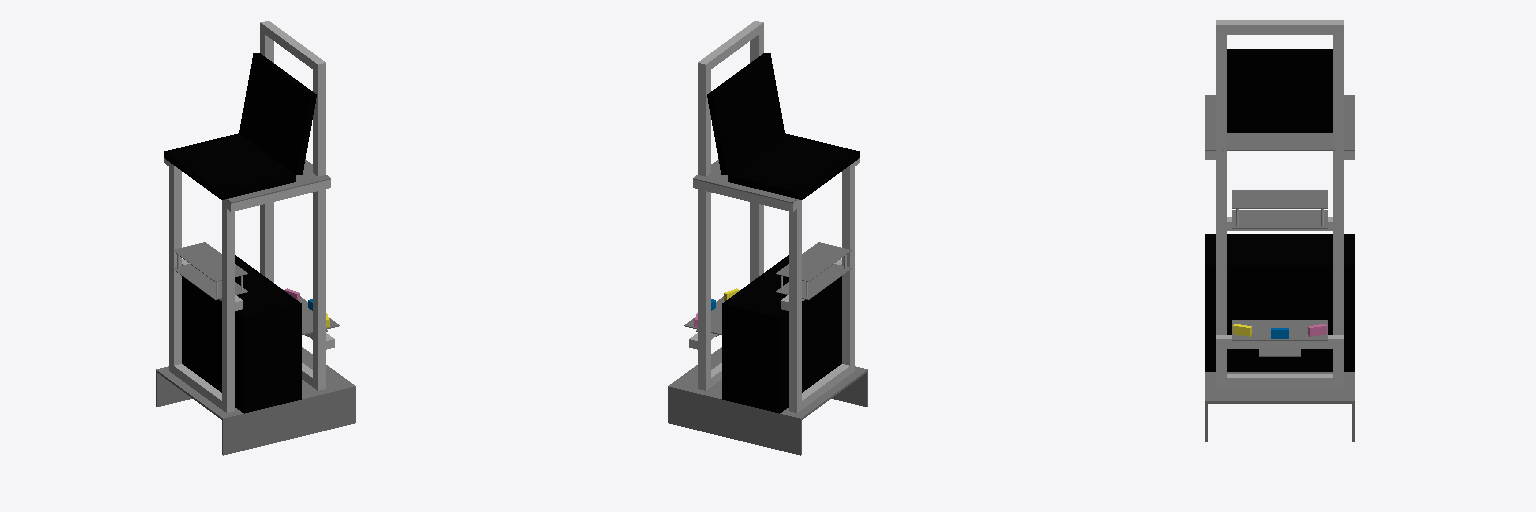
--- What the picture shows (computed from the rendered views, not written in the file) ---
3 views of the same robot in one strip: view 1: azimuth 30°, elevation 25°; view 2: azimuth 150°, elevation 25°; view 3: azimuth 270°, elevation 25° (orthographic).
Model segbot with 48 links and 47 joints (4 continuous, 43 fixed), rooted at base_footprint, posed every joint at zero.
Links seen in each view (by area): view 1: battery_box_link, laptop_screen_link, laptop_link, chassis_right_plate_link, front_right_vertical_beam_link, back_right_vertical_beam_link, back_left_vertical_beam_link, chassis_base_plate_link, front_left_vertical_beam_link, nav_kinect_top_plate_link, front_cap_beam_link, right_laptop_support_beam_link (+4 smaller); view 2: battery_box_link, laptop_screen_link, laptop_link, chassis_left_plate_link, front_left_vertical_beam_link, back_left_vertical_beam_link, back_right_vertical_beam_link, chassis_base_plate_link, front_right_vertical_beam_link, nav_kinect_top_plate_link, front_cap_beam_link, left_laptop_support_beam_link (+4 smaller); view 3: battery_box_link, laptop_screen_link, front_left_vertical_beam_link, front_right_vertical_beam_link, laptop_base_plate_link, chassis_base_plate_link, front_cap_beam_link, nav_kinect_top_plate_link, nav_kinect_base_plate_link, front_base_beam_link, sensor_plate_link, hokuyo_sonar_sensor_beam_link.
Link boxes in pixels (left/top/right/bottom): battery_box_link: left=182, top=255, right=301, bottom=413; laptop_screen_link: left=239, top=53, right=316, bottom=174; laptop_link: left=164, top=133, right=295, bottom=199; chassis_right_plate_link: left=222, top=389, right=355, bottom=455; front_right_vertical_beam_link: left=313, top=70, right=325, bottom=385; back_right_vertical_beam_link: left=222, top=199, right=234, bottom=408; back_left_vertical_beam_link: left=169, top=162, right=181, bottom=369; chassis_base_plate_link: left=156, top=347, right=355, bottom=420; front_left_vertical_beam_link: left=260, top=31, right=273, bottom=282; nav_kinect_top_plate_link: left=172, top=242, right=247, bottom=281; front_cap_beam_link: left=260, top=21, right=325, bottom=72; right_laptop_support_beam_link: left=227, top=179, right=330, bottom=211; battery_box_link: left=722, top=255, right=841, bottom=413; laptop_screen_link: left=707, top=53, right=784, bottom=174; laptop_link: left=728, top=133, right=859, bottom=199; chassis_left_plate_link: left=668, top=389, right=801, bottom=455; front_left_vertical_beam_link: left=698, top=70, right=710, bottom=384; back_left_vertical_beam_link: left=789, top=199, right=801, bottom=408; back_right_vertical_beam_link: left=842, top=162, right=854, bottom=369; chassis_base_plate_link: left=668, top=347, right=867, bottom=420; front_right_vertical_beam_link: left=750, top=31, right=763, bottom=282; nav_kinect_top_plate_link: left=776, top=242, right=851, bottom=281; front_cap_beam_link: left=698, top=21, right=763, bottom=72; left_laptop_support_beam_link: left=693, top=179, right=796, bottom=211; battery_box_link: left=1205, top=234, right=1354, bottom=371; laptop_screen_link: left=1227, top=49, right=1332, bottom=130; front_left_vertical_beam_link: left=1333, top=35, right=1343, bottom=377; front_right_vertical_beam_link: left=1216, top=35, right=1226, bottom=377; laptop_base_plate_link: left=1205, top=95, right=1354, bottom=150; chassis_base_plate_link: left=1205, top=372, right=1354, bottom=403; front_cap_beam_link: left=1216, top=20, right=1343, bottom=34; nav_kinect_top_plate_link: left=1232, top=190, right=1327, bottom=208; nav_kinect_base_plate_link: left=1232, top=210, right=1327, bottom=228; front_base_beam_link: left=1216, top=374, right=1343, bottom=387; sensor_plate_link: left=1232, top=320, right=1327, bottom=340; hokuyo_sonar_sensor_beam_link: left=1216, top=335, right=1343, bottom=348.
Bounding box of the posed robot: 0.4064 × 0.3556 × 1.28 m (x, y, z).
Meshes: 7 distinct files referenced, 0 mesh visuals loaded (none loaded); not drawn: 7 (reference not matched to a file when rendering).

robot.urdf — segbot:
<?xml version="1.0" ?>
<!-- =================================================================================== -->
<!-- |    This document was autogenerated by xacro from robots/segbot_v2.urdf.xacro    | -->
<!-- |    EDITING THIS FILE BY HAND IS NOT RECOMMENDED                                 | -->
<!-- =================================================================================== -->
<robot name="segbot" xmlns:controller="http://playerstage.sourceforge.net/gazebo/xmlschema/#controller" xmlns:interface="http://playerstage.sourceforge.net/gazebo/xmlschema/#interface" xmlns:sensor="http://playerstage.sourceforge.net/gazebo/xmlschema/#sensor" xmlns:xacro="http://ros.org/wiki/xacro">
  <!-- inches -->
  <!-- inches -->
  <!-- inches -->
  <!-- colors -->
  <material name="light_grey">
    <color rgba="0.7 0.7 0.7 1"/>
  </material>
  <material name="dark_grey">
    <color rgba="0.5 0.5 0.5 1"/>
  </material>
  <material name="black">
    <color rgba="0 0 0 1"/>
  </material>
  <material name="almost_black">
    <color rgba="0.02 0.02 0.02 1"/>
  </material>
  <!-- root link, on the ground just below the robot origin -->
  <link name="base_footprint">
    <visual>
      <origin rpy="0 0 0" xyz="0 0 0"/>
      <geometry>
        <box size="0.001 0.001 0.001"/>
      </geometry>
    </visual>
  </link>
  <joint name="base_footprint_joint" type="fixed">
    <origin rpy="0 0 0" xyz="0.0 0 0.2165"/>
    <parent link="base_footprint"/>
    <child link="base_link"/>
  </joint>
  <!-- This is the robot origin, center of the 2 wheels (axis of rotation) -->
  <link name="base_link">
    <inertial>
      <mass value="30"/>
      <origin xyz="0 0 -0.2165"/>
      <inertia ixx="3000.0" ixy="0.0" ixz="0.0" iyy="3000.0" iyz="0.0" izz="30.0"/>
    </inertial>
    <visual>
      <origin rpy="0 0 0" xyz="0 0 0"/>
      <geometry>
        <mesh filename="package://segbot_description/meshes/rmp50-base-link.dae" scale="0.0254 0.0254 0.0254"/>
      </geometry>
    </visual>
    <collision>
      <origin rpy="0 0 0" xyz="0 0 -0.05"/>
      <geometry>
        <cylinder length="0.3330" radius="0.305"/>
      </geometry>
    </collision>
  </link>
  <joint name="laser_obstacle_joint" type="fixed">
    <origin rpy="0 0 0" xyz="0.0 0 0.3165"/>
    <parent link="base_link"/>
    <child link="laser_obstacle"/>
  </joint>
  <link name="laser_obstacle">
    <inertial>
      <mass value="0.1"/>
      <origin rpy="0 0 0" xyz="0 0 0"/>
      <inertia ixx="0.01" ixy="0.0" ixz="0.0" iyy="0.01" iyz="0.0" izz="0.01"/>
    </inertial>
    <visual>
      <origin rpy="0 0 0" xyz="0 0 0"/>
      <geometry>
        <box size="0.001 0.001 0.001"/>
      </geometry>
    </visual>
    <collision>
      <origin rpy="0 0 0" xyz="0 0 0"/>
      <geometry>
        <box size="0.25 0.6 0.4"/>
      </geometry>
    </collision>
  </link>
  <gazebo reference="base_link">
    <mu1 value="1.0"/>
    <mu2 value="1.0"/>
    <kp value="1000000.0"/>
    <kd value="1.0"/>
  </gazebo>
  <!-- castor joint -->
  <joint name="base_caster_support_joint" type="continuous">
    <origin rpy="0 0 0" xyz="-0.3292 0 -0.0485"/>
    <parent link="base_link"/>
    <child link="base_caster_support_link"/>
    <axis xyz="0 0 1"/>
    <anchor xyz="0.01 0 0"/>
    <limit effort="100" k_velocity="0" velocity="100"/>
    <joint_properties damping="0.0" friction="0.0"/>
  </joint>
  <transmission name="base_caster_support_trans" type="pr2_mechanism_model/SimpleTransmission">
    <actuator name="base_caster_support_motor"/>
    <joint name="base_caster_support_joint"/>
    <mechanicalReduction>1.0</mechanicalReduction>
  </transmission>
  <link name="base_caster_support_link">
    <inertial>
      <mass value="1"/>
      <origin xyz="0 0 0"/>
      <inertia ixx="0.00375" ixy="0.0" ixz="0.0" iyy="0.00375" iyz="0.0" izz="0.00375"/>
    </inertial>
    <visual>
      <origin rpy="0 0 0" xyz="0 0 0"/>
      <geometry>
        <mesh filename="package://segbot_description/meshes/rmp50-castor-link.dae" scale="0.0254 0.0254 0.0254"/>
      </geometry>
    </visual>
  </link>
  <gazebo reference="base_caster_support_link">
    <mu1 value="100.0"/>
    <mu2 value="100.0"/>
    <kp value="1000000.0"/>
    <kd value="1.0"/>
  </gazebo>
  <!-- castor wheel -->
  <joint name="caster_wheel_joint" type="continuous">
    <origin rpy="0 0 0" xyz="-0.0397 0 -0.0918"/>
    <parent link="base_caster_support_link"/>
    <child link="caster_wheel_link"/>
    <axis xyz="0 1 0"/>
    <anchor xyz="0 0 0"/>
    <limit effort="100" k_velocity="0" velocity="100"/>
    <joint_properties damping="0.0" friction="0.0"/>
  </joint>
  <transmission name="caster_wheel_trans" type="pr2_mechanism_model/SimpleTransmission">
    <actuator name="caster_wheel_motor"/>
    <joint name="caster_wheel_joint"/>
    <mechanicalReduction>1.0</mechanicalReduction>
  </transmission>
  <link name="caster_wheel_link">
    <inertial>
      <mass value="2"/>
      <origin rpy="0 0 0" xyz="0 0 0"/>
      <inertia ixx="0.003" ixy="0.0" ixz="0.0" iyy="0.00581" iyz="0.0" izz="0.003"/>
    </inertial>
    <visual>
      <origin rpy="0 0 0" xyz="0 0 0"/>
      <geometry>
        <mesh filename="package://segbot_description/meshes/rmp50-castor-wheel.dae" scale="0.0254 0.0254 0.0254"/>
      </geometry>
    </visual>
  </link>
  <gazebo reference="caster_wheel_link">
    <mu1 value="1.0"/>
    <mu2 value="1.0"/>
    <kp value="1000000.0"/>
    <kd value="1.0"/>
  </gazebo>
  <joint name="base_link_left_wheel_joint" type="continuous">
    <origin rpy="0 0 0" xyz="0 0.2689 0.0239"/>
    <axis xyz="0 1 0"/>
    <anchor xyz="0 0 0"/>
    <limit effort="100" velocity="100"/>
    <joint_properties damping="0.0" friction="0.0"/>
    <parent link="base_link"/>
    <child link="base_link_left_wheel_link"/>
  </joint>
  <link name="base_link_left_wheel_link">
    <inertial>
      <mass value="5"/>
      <origin xyz=" 0 0 0 "/>
      <inertia ixx="0.076" ixy="0.0" ixz="0.0" iyy="0.144" iyz="0.0" izz="0.076"/>
    </inertial>
    <visual>
      <origin rpy="0 0 0" xyz="0 0 0"/>
      <geometry>
        <mesh filename="package://segbot_description/meshes/rmp50-left-wheel.dae" scale="0.0254 0.0254 0.0254"/>
      </geometry>
    </visual>
  </link>
  <gazebo reference="base_link_left_wheel_link">
    <mu1 value="1.0"/>
    <mu2 value="1.0"/>
    <kp value="1000000.0"/>
    <kd value="1.0"/>
  </gazebo>
  <transmission name="base_link_left_wheel_trans" type="pr2_mechanism_model/SimpleTransmission">
    <actuator name="base_link_left_wheel_motor"/>
    <joint name="base_link_left_wheel_joint"/>
    <mechanicalReduction>1.0</mechanicalReduction>
  </transmission>
  <joint name="base_link_right_wheel_joint" type="continuous">
    <origin rpy="0 0 0" xyz="0 -0.2689 0.0239"/>
    <axis xyz="0 1 0"/>
    <anchor xyz="0 0 0"/>
    <limit effort="100" velocity="100"/>
    <joint_properties damping="0.0" friction="0.0"/>
    <parent link="base_link"/>
    <child link="base_link_right_wheel_link"/>
  </joint>
  <link name="base_link_right_wheel_link">
    <inertial>
      <mass value="5"/>
      <origin xyz=" 0 0 0 "/>
      <inertia ixx="0.076" ixy="0.0" ixz="0.0" iyy="0.144" iyz="0.0" izz="0.076"/>
    </inertial>
    <visual>
      <origin rpy="0 0 0" xyz="0 0 0"/>
      <geometry>
        <mesh filename="package://segbot_description/meshes/rmp50-right-wheel.dae" scale="0.0254 0.0254 0.0254"/>
      </geometry>
    </visual>
  </link>
  <gazebo reference="base_link_right_wheel_link">
    <mu1 value="1.0"/>
    <mu2 value="1.0"/>
    <kp value="1000000.0"/>
    <kd value="1.0"/>
  </gazebo>
  <transmission name="base_link_right_wheel_trans" type="pr2_mechanism_model/SimpleTransmission">
    <actuator name="base_link_right_wheel_motor"/>
    <joint name="base_link_right_wheel_joint"/>
    <mechanicalReduction>1.0</mechanicalReduction>
  </transmission>
  <joint name="chassis_base_plate_joint" type="fixed">
    <origin xyz="0.0 0 0.10795"/>
    <parent link="base_link"/>
    <child link="chassis_base_plate_link"/>
  </joint>
  <link name="chassis_base_plate_link">
    <inertial>
      <mass value="0.1"/>
      <origin rpy="0 0 0" xyz="0 0 0"/>
      <inertia ixx="0.01" ixy="0.0" ixz="0.0" iyy="0.01" iyz="0.0" izz="0.01"/>
    </inertial>
    <visual>
      <origin rpy="0 0 0" xyz="0 0 0.003175"/>
      <geometry>
        <box size="0.4064 0.3556 0.00635"/>
      </geometry>
      <material name="dark_grey"/>
    </visual>
  </link>
  <gazebo reference="chassis_base_plate_link">
    <material>Gazebo/Grey</material>
    <mu1 value="100.0"/>
    <mu2 value="100.0"/>
    <kp value="1000000.0"/>
    <kd value="1.0"/>
  </gazebo>
  <joint name="chassis_left_plate_joint" type="fixed">
    <origin rpy="-1.5707963268 0 0" xyz="0 0.17145 -0.0508"/>
    <parent link="chassis_base_plate_link"/>
    <child link="chassis_left_plate_link"/>
  </joint>
  <link name="chassis_left_plate_link">
    <inertial>
      <mass value="0.1"/>
      <origin rpy="0 0 0" xyz="0 0 0"/>
      <inertia ixx="0.01" ixy="0.0" ixz="0.0" iyy="0.01" iyz="0.0" izz="0.01"/>
    </inertial>
    <visual>
      <origin rpy="0 0 0" xyz="0 0 0.003175"/>
      <geometry>
        <box size="0.4064 0.1016 0.00635"/>
      </geometry>
      <material name="dark_grey"/>
    </visual>
  </link>
  <gazebo reference="chassis_left_plate_link">
    <material>Gazebo/Grey</material>
    <mu1 value="100.0"/>
    <mu2 value="100.0"/>
    <kp value="1000000.0"/>
    <kd value="1.0"/>
  </gazebo>
  <joint name="chassis_right_plate_joint" type="fixed">
    <origin rpy="+1.5707963268 0 0" xyz="0 -0.17145 -0.0508"/>
    <parent link="chassis_base_plate_link"/>
    <child link="chassis_right_plate_link"/>
  </joint>
  <link name="chassis_right_plate_link">
    <inertial>
      <mass value="0.1"/>
      <origin rpy="0 0 0" xyz="0 0 0"/>
      <inertia ixx="0.01" ixy="0.0" ixz="0.0" iyy="0.01" iyz="0.0" izz="0.01"/>
    </inertial>
    <visual>
      <origin rpy="0 0 0" xyz="0 0 0.003175"/>
      <geometry>
        <box size="0.4064 0.1016 0.00635"/>
      </geometry>
      <material name="dark_grey"/>
    </visual>
  </link>
  <gazebo reference="chassis_right_plate_link">
    <material>Gazebo/Grey</material>
    <mu1 value="100.0"/>
    <mu2 value="100.0"/>
    <kp value="1000000.0"/>
    <kd value="1.0"/>
  </gazebo>
  <!-- battery box (approximately 7" by 14" by 11) -->
  <joint name="battery_box_joint" type="fixed">
    <origin rpy="0 0 0" xyz="-0.0508 0 0.00635"/>
    <parent link="chassis_base_plate_link"/>
    <child link="battery_box_link"/>
  </joint>
  <link name="battery_box_link">
    <inertial>
      <mass value="0.1"/>
      <origin rpy="0 0 0" xyz="0 0 0"/>
      <inertia ixx="0.01" ixy="0.0" ixz="0.0" iyy="0.01" iyz="0.0" izz="0.01"/>
    </inertial>
    <visual>
      <origin rpy="0 0 0" xyz="0 0 0.1397"/>
      <geometry>
        <box size="0.1778 0.3556 0.2794"/>
      </geometry>
      <material name="almost_black"/>
    </visual>
  </link>
  <gazebo reference="battery_box_link">
    <material>Gazebo/Black</material>
    <mu1 value="100.0"/>
    <mu2 value="100.0"/>
    <kp value="1000000.0"/>
    <kd value="1.0"/>
  </gazebo>
  <joint name="front_base_beam_joint" type="fixed">
    <origin rpy="1.5707963268 0 0" xyz="0.1143 0.1524 0.01905"/>
    <parent link="chassis_base_plate_link"/>
    <child link="front_base_beam_link"/>
  </joint>
  <link name="front_base_beam_link">
    <inertial>
      <mass value="0.1"/>
      <inertia ixx="0.01" ixy="0.0" ixz="0.0" iyy="0.01" iyz="0.0" izz="0.01"/>
    </inertial>
    <visual>
      <origin rpy="0 0 0" xyz="0 0 0.1524"/>
      <geometry>
        <box size="0.0254 0.0254 0.3048"/>
      </geometry>
      <material name="light_grey"/>
    </visual>
  </link>
  <gazebo reference="front_base_beam_link">
    <material>Gazebo/Grey</material>
    <mu1 value="100.0"/>
    <mu2 value="100.0"/>
    <kp value="1000000.0"/>
    <kd value="1.0"/>
  </gazebo>
  <joint name="back_base_beam_joint" type="fixed">
    <origin rpy="1.5707963268 0 0" xyz="-0.1651 0.1524 0.01905"/>
    <parent link="chassis_base_plate_link"/>
    <child link="back_base_beam_link"/>
  </joint>
  <link name="back_base_beam_link">
    <inertial>
      <mass value="0.1"/>
      <inertia ixx="0.01" ixy="0.0" ixz="0.0" iyy="0.01" iyz="0.0" izz="0.01"/>
    </inertial>
    <visual>
      <origin rpy="0 0 0" xyz="0 0 0.1524"/>
      <geometry>
        <box size="0.0254 0.0254 0.3048"/>
      </geometry>
      <material name="light_grey"/>
    </visual>
  </link>
  <gazebo reference="back_base_beam_link">
    <material>Gazebo/Grey</material>
    <mu1 value="100.0"/>
    <mu2 value="100.0"/>
    <kp value="1000000.0"/>
    <kd value="1.0"/>
  </gazebo>
  <joint name="back_left_vertical_beam_joint" type="fixed">
    <origin rpy="-1.5707963268 0 0" xyz="0 0 0.0127"/>
    <parent link="back_base_beam_link"/>
    <child link="back_left_vertical_beam_link"/>
  </joint>
  <link name="back_left_vertical_beam_link">
    <inertial>
      <mass value="0.1"/>
      <inertia ixx="0.01" ixy="0.0" ixz="0.0" iyy="0.01" iyz="0.0" izz="0.01"/>
    </inertial>
    <visual>
      <origin rpy="0 0 0" xyz="0 0 0.3048"/>
      <geometry>
        <box size="0.0254 0.0254 0.6096"/>
      </geometry>
      <material name="light_grey"/>
    </visual>
  </link>
  <gazebo reference="back_left_vertical_beam_link">
    <material>Gazebo/Grey</material>
    <mu1 value="100.0"/>
    <mu2 value="100.0"/>
    <kp value="1000000.0"/>
    <kd value="1.0"/>
  </gazebo>
  <joint name="front_left_vertical_beam_joint" type="fixed">
    <origin rpy="-1.5707963268 0 0" xyz="0 0 0.0127"/>
    <parent link="front_base_beam_link"/>
    <child link="front_left_vertical_beam_link"/>
  </joint>
  <link name="front_left_vertical_beam_link">
    <inertial>
      <mass value="0.1"/>
      <inertia ixx="0.01" ixy="0.0" ixz="0.0" iyy="0.01" iyz="0.0" izz="0.01"/>
    </inertial>
    <visual>
      <origin rpy="0 0 0" xyz="0 0 0.4572"/>
      <geometry>
        <box size="0.0254 0.0254 0.9144"/>
      </geometry>
      <material name="light_grey"/>
    </visual>
  </link>
  <gazebo reference="front_left_vertical_beam_link">
    <material>Gazebo/Grey</material>
    <mu1 value="100.0"/>
    <mu2 value="100.0"/>
    <kp value="1000000.0"/>
    <kd value="1.0"/>
  </gazebo>
  <joint name="back_right_vertical_beam_joint" type="fixed">
    <origin rpy="-1.5707963268 0 0" xyz="0 0 0.2921"/>
    <parent link="back_base_beam_link"/>
    <child link="back_right_vertical_beam_link"/>
  </joint>
  <link name="back_right_vertical_beam_link">
    <inertial>
      <mass value="0.1"/>
      <inertia ixx="0.01" ixy="0.0" ixz="0.0" iyy="0.01" iyz="0.0" izz="0.01"/>
    </inertial>
    <visual>
      <origin rpy="0 0 0" xyz="0 0 0.3048"/>
      <geometry>
        <box size="0.0254 0.0254 0.6096"/>
      </geometry>
      <material name="light_grey"/>
    </visual>
  </link>
  <gazebo reference="back_right_vertical_beam_link">
    <material>Gazebo/Grey</material>
    <mu1 value="100.0"/>
    <mu2 value="100.0"/>
    <kp value="1000000.0"/>
    <kd value="1.0"/>
  </gazebo>
  <joint name="front_right_vertical_beam_joint" type="fixed">
    <origin rpy="-1.5707963268 0 0" xyz="0 0 0.2921"/>
    <parent link="front_base_beam_link"/>
    <child link="front_right_vertical_beam_link"/>
  </joint>
  <link name="front_right_vertical_beam_link">
    <inertial>
      <mass value="0.1"/>
      <inertia ixx="0.01" ixy="0.0" ixz="0.0" iyy="0.01" iyz="0.0" izz="0.01"/>
    </inertial>
    <visual>
      <origin rpy="0 0 0" xyz="0 0 0.4572"/>
      <geometry>
        <box size="0.0254 0.0254 0.9144"/>
      </geometry>
      <material name="light_grey"/>
    </visual>
  </link>
  <gazebo reference="front_right_vertical_beam_link">
    <material>Gazebo/Grey</material>
    <mu1 value="100.0"/>
    <mu2 value="100.0"/>
    <kp value="1000000.0"/>
    <kd value="1.0"/>
  </gazebo>
  <joint name="left_laptop_support_beam_joint" type="fixed">
    <origin rpy="3.14159265359 -1.5707963268 0" xyz="-0.0127 0.0254 0.5969"/>
    <parent link="back_left_vertical_beam_link"/>
    <child link="left_laptop_support_beam_link"/>
  </joint>
  <link name="left_laptop_support_beam_link">
    <inertial>
      <mass value="0.1"/>
      <inertia ixx="0.01" ixy="0.0" ixz="0.0" iyy="0.01" iyz="0.0" izz="0.01"/>
    </inertial>
    <visual>
      <origin rpy="0 0 0" xyz="0 0 0.1524"/>
      <geometry>
        <box size="0.0254 0.0254 0.3048"/>
      </geometry>
      <material name="light_grey"/>
    </visual>
  </link>
  <gazebo reference="left_laptop_support_beam_link">
    <material>Gazebo/Grey</material>
    <mu1 value="100.0"/>
    <mu2 value="100.0"/>
    <kp value="1000000.0"/>
    <kd value="1.0"/>
  </gazebo>
  <joint name="right_laptop_support_beam_joint" type="fixed">
    <origin rpy="3.14159265359 -1.5707963268 0" xyz="-0.0127 -0.0254 0.5969"/>
    <parent link="back_right_vertical_beam_link"/>
    <child link="right_laptop_support_beam_link"/>
  </joint>
  <link name="right_laptop_support_beam_link">
    <inertial>
      <mass value="0.1"/>
      <inertia ixx="0.01" ixy="0.0" ixz="0.0" iyy="0.01" iyz="0.0" izz="0.01"/>
    </inertial>
    <visual>
      <origin rpy="0 0 0" xyz="0 0 0.1524"/>
      <geometry>
        <box size="0.0254 0.0254 0.3048"/>
      </geometry>
      <material name="light_grey"/>
    </visual>
  </link>
  <gazebo reference="right_laptop_support_beam_link">
    <material>Gazebo/Grey</material>
    <mu1 value="100.0"/>
    <mu2 value="100.0"/>
    <kp value="1000000.0"/>
    <kd value="1.0"/>
  </gazebo>
  <joint name="laptop_base_plate_joint" type="fixed">
    <origin rpy="3.14159265359 -1.5707963268 0" xyz="0.0127 0.1651 0.1524"/>
    <parent link="left_laptop_support_beam_link"/>
    <child link="laptop_base_plate_link"/>
  </joint>
  <link name="laptop_base_plate_link">
    <inertial>
      <mass value="0.1"/>
      <origin rpy="0 0 0" xyz="0 0 0"/>
      <inertia ixx="0.01" ixy="0.0" ixz="0.0" iyy="0.01" iyz="0.0" izz="0.01"/>
    </inertial>
    <visual>
      <origin rpy="0 0 0" xyz="0 0 0.0015875"/>
      <geometry>
        <box size="0.3048 0.3556 0.003175"/>
      </geometry>
      <material name="dark_grey"/>
    </visual>
  </link>
  <gazebo reference="laptop_base_plate_link">
    <material>Gazebo/Grey</material>
    <mu1 value="100.0"/>
    <mu2 value="100.0"/>
    <kp value="1000000.0"/>
    <kd value="1.0"/>
  </gazebo>
  <!-- laptop base -->
  <joint name="laptop_joint" type="fixed">
    <origin rpy="0 0 0" xyz="-0.05334 0 0.003175"/>
    <parent link="laptop_base_plate_link"/>
    <child link="laptop_link"/>
  </joint>
  <link name="laptop_link">
    <inertial>
      <mass value="0.1"/>
      <origin rpy="0 0 0" xyz="0 0 0"/>
      <inertia ixx="0.01" ixy="0.0" ixz="0.0" iyy="0.01" iyz="0.0" izz="0.01"/>
    </inertial>
    <visual>
      <origin rpy="0 0 0" xyz="0 0 0.009525"/>
      <geometry>
        <box size="0.2286 0.3048 0.01905"/>
      </geometry>
      <material name="almost_black"/>
    </visual>
  </link>
  <gazebo reference="laptop_link">
    <material>Gazebo/Grey</material>
    <mu1 value="100.0"/>
    <mu2 value="100.0"/>
    <kp value="1000000.0"/>
    <kd value="1.0"/>
  </gazebo>
  <!-- laptop screen -->
  <joint name="laptop_screen_joint" type="fixed">
    <origin rpy="0 -1.37444678595 0" xyz="0.1143 0 0.01905"/>
    <parent link="laptop_link"/>
    <child link="laptop_screen_link"/>
  </joint>
  <link name="laptop_screen_link">
    <inertial>
      <mass value="0.1"/>
      <origin rpy="0 0 0" xyz="0 0 0"/>
      <inertia ixx="0.01" ixy="0.0" ixz="0.0" iyy="0.01" iyz="0.0" izz="0.01"/>
    </inertial>
    <visual>
      <origin rpy="0 0 -1.5707963268" xyz="0.1143 0 -0.009525"/>
      <geometry>
        <box size="0.3048 0.2286 0.01905"/>
      </geometry>
      <material name="almost_black"/>
    </visual>
  </link>
  <gazebo reference="laptop_screen_link">
    <visual>
      <plugin filename="libgazebo_ros_video.so" name="laptop_video_controller">
        <height>120</height>
        <width>160</width>
        <topicName>image</topicName>
      </plugin>
    </visual>
    <material>Gazebo/Grey</material>
    <mu1 value="100.0"/>
    <mu2 value="100.0"/>
    <kp value="1000000.0"/>
    <kd value="1.0"/>
  </gazebo>
  <joint name="nav_kinect_sensor_beam_joint" type="fixed">
    <origin rpy="-1.5707963268 -1.5707963268 0" xyz="0.0254 -0.0127 0.2921"/>
    <parent link="back_right_vertical_beam_link"/>
    <child link="nav_kinect_sensor_beam_link"/>
  </joint>
  <link name="nav_kinect_sensor_beam_link">
    <inertial>
      <mass value="0.1"/>
      <inertia ixx="0.01" ixy="0.0" ixz="0.0" iyy="0.01" iyz="0.0" izz="0.01"/>
    </inertial>
    <visual>
      <origin rpy="0 0 0" xyz="0 0 0.1524"/>
      <geometry>
        <box size="0.0254 0.0254 0.3048"/>
      </geometry>
      <material name="light_grey"/>
    </visual>
  </link>
  <gazebo reference="nav_kinect_sensor_beam_link">
    <material>Gazebo/Grey</material>
    <mu1 value="100.0"/>
    <mu2 value="100.0"/>
    <kp value="1000000.0"/>
    <kd value="1.0"/>
  </gazebo>
  <joint name="nav_kinect_base_plate_joint" type="fixed">
    <origin rpy="1.5707963268 0 1.5707963268" xyz="0.0127 0 0.1524"/>
    <parent link="nav_kinect_sensor_beam_link"/>
    <child link="nav_kinect_base_plate_link"/>
  </joint>
  <link name="nav_kinect_base_plate_link">
    <inertial>
      <mass value="0.1"/>
      <origin rpy="0 0 0" xyz="0 0 0"/>
      <inertia ixx="0.01" ixy="0.0" ixz="0.0" iyy="0.01" iyz="0.0" izz="0.01"/>
    </inertial>
    <visual>
      <origin rpy="0 0 0" xyz="0 0 0.00079375"/>
      <geometry>
        <box size="0.1016 0.2286 0.0015875"/>
      </geometry>
      <material name="dark_grey"/>
    </visual>
  </link>
  <gazebo reference="nav_kinect_base_plate_link">
    <material>Gazebo/Grey</material>
    <mu1 value="100.0"/>
    <mu2 value="100.0"/>
    <kp value="1000000.0"/>
    <kd value="1.0"/>
  </gazebo>
  <joint name="nav_kinect_standoff_1_joint" type="fixed">
    <origin rpy="0 0 0" xyz="0.0381 -0.1016 0.0015875"/>
    <parent link="nav_kinect_base_plate_link"/>
    <child link="nav_kinect_standoff_1_link"/>
  </joint>
  <link name="nav_kinect_standoff_1_link">
    <inertial>
      <mass value="0.1"/>
      <origin rpy="0 0 0" xyz="0 0 0"/>
      <inertia ixx="0.01" ixy="0.0" ixz="0.0" iyy="0.01" iyz="0.0" izz="0.01"/>
    </inertial>
    <visual>
      <origin rpy="0 0 0" xyz="0 0 0.0254"/>
      <geometry>
        <cylinder length="0.0508" radius="0.003175"/>
      </geometry>
      <material name="light_grey"/>
    </visual>
  </link>
  <gazebo reference="nav_kinect_standoff_1_link">
    <material>Gazebo/Grey</material>
    <mu1 value="100.0"/>
    <mu2 value="100.0"/>
    <kp value="1000000.0"/>
    <kd value="1.0"/>
  </gazebo>
  <joint name="nav_kinect_standoff_2_joint" type="fixed">
    <origin rpy="0 0 0" xyz="0.0381 0.1016 0.0015875"/>
    <parent link="nav_kinect_base_plate_link"/>
    <child link="nav_kinect_standoff_2_link"/>
  </joint>
  <link name="nav_kinect_standoff_2_link">
    <inertial>
      <mass value="0.1"/>
      <origin rpy="0 0 0" xyz="0 0 0"/>
      <inertia ixx="0.01" ixy="0.0" ixz="0.0" iyy="0.01" iyz="0.0" izz="0.01"/>
    </inertial>
    <visual>
      <origin rpy="0 0 0" xyz="0 0 0.0254"/>
      <geometry>
        <cylinder length="0.0508" radius="0.003175"/>
      </geometry>
      <material name="light_grey"/>
    </visual>
  </link>
  <gazebo reference="nav_kinect_standoff_2_link">
    <material>Gazebo/Grey</material>
    <mu1 value="100.0"/>
    <mu2 value="100.0"/>
    <kp value="1000000.0"/>
    <kd value="1.0"/>
  </gazebo>
  <joint name="nav_kinect_standoff_3_joint" type="fixed">
    <origin rpy="0 0 0" xyz="-0.0381 0.1016 0.0015875"/>
    <parent link="nav_kinect_base_plate_link"/>
    <child link="nav_kinect_standoff_3_link"/>
  </joint>
  <link name="nav_kinect_standoff_3_link">
    <inertial>
      <mass value="0.1"/>
      <origin rpy="0 0 0" xyz="0 0 0"/>
      <inertia ixx="0.01" ixy="0.0" ixz="0.0" iyy="0.01" iyz="0.0" izz="0.01"/>
    </inertial>
    <visual>
      <origin rpy="0 0 0" xyz="0 0 0.0254"/>
      <geometry>
        <cylinder length="0.0508" radius="0.003175"/>
      </geometry>
      <material name="light_grey"/>
    </visual>
  </link>
  <gazebo reference="nav_kinect_standoff_3_link">
    <material>Gazebo/Grey</material>
    <mu1 value="100.0"/>
    <mu2 value="100.0"/>
    <kp value="1000000.0"/>
    <kd value="1.0"/>
  </gazebo>
  <joint name="nav_kinect_standoff_4_joint" type="fixed">
    <origin rpy="0 0 0" xyz="-0.0381 -0.1016 0.0015875"/>
    <parent link="nav_kinect_base_plate_link"/>
    <child link="nav_kinect_standoff_4_link"/>
  </joint>
  <link name="nav_kinect_standoff_4_link">
    <inertial>
      <mass value="0.1"/>
      <origin rpy="0 0 0" xyz="0 0 0"/>
      <inertia ixx="0.01" ixy="0.0" ixz="0.0" iyy="0.01" iyz="0.0" izz="0.01"/>
    </inertial>
    <visual>
      <origin rpy="0 0 0" xyz="0 0 0.0254"/>
      <geometry>
        <cylinder length="0.0508" radius="0.003175"/>
      </geometry>
      <material name="light_grey"/>
    </visual>
  </link>
  <gazebo reference="nav_kinect_standoff_4_link">
    <material>Gazebo/Grey</material>
    <mu1 value="100.0"/>
    <mu2 value="100.0"/>
    <kp value="1000000.0"/>
    <kd value="1.0"/>
  </gazebo>
  <joint name="nav_kinect_top_plate_joint" type="fixed">
    <origin rpy="0 0 0" xyz="-0.0381 0.1016 0.0508"/>
    <parent link="nav_kinect_standoff_1_link"/>
    <child link="nav_kinect_top_plate_link"/>
  </joint>
  <link name="nav_kinect_top_plate_link">
    <inertial>
      <mass value="0.1"/>
      <origin rpy="0 0 0" xyz="0 0 0"/>
      <inertia ixx="0.01" ixy="0.0" ixz="0.0" iyy="0.01" iyz="0.0" izz="0.01"/>
    </inertial>
    <visual>
      <origin rpy="0 0 0" xyz="0 0 0.00079375"/>
      <geometry>
        <box size="0.1016 0.2286 0.0015875"/>
      </geometry>
      <material name="dark_grey"/>
    </visual>
  </link>
  <gazebo reference="nav_kinect_top_plate_link">
    <material>Gazebo/Grey</material>
    <mu1 value="100.0"/>
    <mu2 value="100.0"/>
    <kp value="1000000.0"/>
    <kd value="1.0"/>
  </gazebo>
  <joint name="nav_kinect_joint" type="fixed">
    <origin rpy="0 0 0" xyz="0.031242 -0.0137160 0.022352"/>
    <parent link="nav_kinect_top_plate_link"/>
    <child link="nav_kinect_link"/>
  </joint>
  <link name="nav_kinect_link">
    <inertial>
      <mass value="0.1"/>
      <origin rpy="0 0 0" xyz="0 0 0"/>
      <inertia ixx="0.01" ixy="0.0" ixz="0.0" iyy="0.01" iyz="0.0" izz="0.01"/>
    </inertial>
    <visual>
      <origin rpy="0 0 0" xyz="0.0 0.012 0"/>
      <geometry>
        <mesh filename="package://pr2_description/meshes/sensors/kinect_v0/kinect.dae" scale="0.001 0.001 0.001"/>
      </geometry>
    </visual>
    <!-- <collision> -->
    <!--   <origin xyz="0.0 0.012 0" rpy="0 0 0"/> -->
    <!--   <geometry> -->
    <!--     <mesh filename="package://pr2_description/meshes/sensors/kinect_v0/kinect.dae" scale="0.001 0.001 0.001" /> -->
    <!--   </geometry> -->
    <!-- </collision> -->
  </link>
  <gazebo reference="nav_kinect_link">
    <sensor name="nav_kinect_link_sensor" type="depth">
      <always_on>true</always_on>
      <update_rate>20.0</update_rate>
      <camera>
        <horizontal_fov>0.994837673637</horizontal_fov>
        <image>
          <format>R8G8B8</format>
          <width>640</width>
          <height>480</height>
        </image>
        <clip>
          <near>0.01</near>
          <far>5</far>
        </clip>
      </camera>
      <plugin filename="libgazebo_ros_openni_kinect.so" name="nav_kinect_frame_controller">
        <alwaysOn>true</alwaysOn>
        <updateRate>20.0</updateRate>
        <cameraName>nav_kinect</cameraName>
        <imageTopicName>rgb/image_raw</imageTopicName>
        <cameraInfoTopicName>rgb/camera_info</cameraInfoTopicName>
        <depthImageTopicName>depth/image_raw</depthImageTopicName>
        <depthImageCameraInfoTopicName>depth/camera_info</depthImageCameraInfoTopicName>
        <pointCloudTopicName>depth/points</pointCloudTopicName>
        <frameName>nav_kinect_depth_optical_frame</frameName>
        <pointCloudCutoff>0.5</pointCloudCutoff>
        <distortionK1>0.00000001</distortionK1>
        <distortionK2>0.00000001</distortionK2>
        <distortionK3>0.00000001</distortionK3>
        <distortionT1>0.00000001</distortionT1>
        <distortionT2>0.00000001</distortionT2>
      </plugin>
    </sensor>
  </gazebo>
  <!-- form other reference frames from the base kinect link -->
  <joint name="nav_kinect_link_joint1" type="fixed">
    <origin rpy="0 0 0" xyz="0 -0.02 0"/>
    <parent link="nav_kinect_link"/>
    <child link="nav_kinect_depth_frame"/>
  </joint>
  <link name="nav_kinect_depth_frame">
    <inertial>
      <mass value="0.001"/>
      <origin rpy="0 0 0" xyz="0 0 0"/>
      <inertia ixx="0.0001" ixy="0" ixz="0" iyy="0.000001" iyz="0" izz="0.0001"/>
    </inertial>
  </link>
  <joint name="nav_kinect_link_joint2" type="fixed">
    <origin rpy="0 0 0" xyz="0 -0.045 0"/>
    <parent link="nav_kinect_link"/>
    <child link="nav_kinect_rgb_frame"/>
  </joint>
  <link name="nav_kinect_rgb_frame">
    <inertial>
      <mass value="0.001"/>
      <origin rpy="0 0 0" xyz="0 0 0"/>
      <inertia ixx="0.0001" ixy="0" ixz="0" iyy="0.000001" iyz="0" izz="0.0001"/>
    </inertial>
  </link>
  <joint name="nav_kinect_link_joint3" type="fixed">
    <origin rpy="-1.5707963268 0 -1.5707963268" xyz="0 0 0"/>
    <parent link="nav_kinect_depth_frame"/>
    <child link="nav_kinect_depth_optical_frame"/>
  </joint>
  <link name="nav_kinect_depth_optical_frame">
    <inertial>
      <mass value="0.001"/>
      <origin rpy="0 0 0" xyz="0 0 0"/>
      <inertia ixx="0.0001" ixy="0" ixz="0" iyy="0.000001" iyz="0" izz="0.0001"/>
    </inertial>
  </link>
  <joint name="nav_kinect_link_joint4" type="fixed">
    <origin rpy="-1.5707963268 0 -1.5707963268" xyz="0 0 0"/>
    <parent link="nav_kinect_rgb_frame"/>
    <child link="nav_kinect_rgb_optical_frame"/>
  </joint>
  <link name="nav_kinect_rgb_optical_frame">
    <inertial>
      <mass value="0.001"/>
      <origin rpy="0 0 0" xyz="0 0 0"/>
      <inertia ixx="0.0001" ixy="0" ixz="0" iyy="0.000001" iyz="0" izz="0.0001"/>
    </inertial>
  </link>
  <joint name="hokuyo_sonar_sensor_beam_joint" type="fixed">
    <origin rpy="1.5707963268 1.5707963268 0" xyz="0.0254 0.0127 0.1143"/>
    <parent link="front_left_vertical_beam_link"/>
    <child link="hokuyo_sonar_sensor_beam_link"/>
  </joint>
  <link name="hokuyo_sonar_sensor_beam_link">
    <inertial>
      <mass value="0.1"/>
      <inertia ixx="0.01" ixy="0.0" ixz="0.0" iyy="0.01" iyz="0.0" izz="0.01"/>
    </inertial>
    <visual>
      <origin rpy="0 0 0" xyz="0 0 0.1524"/>
      <geometry>
        <box size="0.0254 0.0254 0.3048"/>
      </geometry>
      <material name="light_grey"/>
    </visual>
  </link>
  <gazebo reference="hokuyo_sonar_sensor_beam_link">
    <material>Gazebo/Grey</material>
    <mu1 value="100.0"/>
    <mu2 value="100.0"/>
    <kp value="1000000.0"/>
    <kd value="1.0"/>
  </gazebo>
  <joint name="nav_hokuyo_plate_joint" type="fixed">
    <origin rpy="1.5707963268 0 1.5707963268" xyz="0.0127 0.01905 0.1524"/>
    <parent link="hokuyo_sonar_sensor_beam_link"/>
    <child link="nav_hokuyo_plate_link"/>
  </joint>
  <link name="nav_hokuyo_plate_link">
    <inertial>
      <mass value="0.1"/>
      <origin rpy="0 0 0" xyz="0 0 0"/>
      <inertia ixx="0.01" ixy="0.0" ixz="0.0" iyy="0.01" iyz="0.0" izz="0.01"/>
    </inertial>
    <visual>
      <origin rpy="0 0 0" xyz="0 0 0.0015875"/>
      <geometry>
        <box size="0.0635 0.1016 0.003175"/>
      </geometry>
      <material name="dark_grey"/>
    </visual>
  </link>
  <gazebo reference="nav_hokuyo_plate_link">
    <material>Gazebo/Grey</material>
    <mu1 value="100.0"/>
    <mu2 value="100.0"/>
    <kp value="1000000.0"/>
    <kd value="1.0"/>
  </gazebo>
  <joint name="nav_hokuyo_joint" type="fixed">
    <axis xyz="0 1 0"/>
    <origin rpy="0 0 0" xyz="0 0 0.003175"/>
    <parent link="nav_hokuyo_plate_link"/>
    <child link="nav_hokuyo_link"/>
  </joint>
  <link name="nav_hokuyo_link">
    <inertial>
      <mass value="0.001"/>
      <origin rpy="0 0 0" xyz="0 0 0"/>
      <inertia ixx="0.0001" ixy="0" ixz="0" iyy="0.000001" iyz="0" izz="0.0001"/>
    </inertial>
    <visual>
      <origin rpy="0 0 0" xyz="0 0 0"/>
      <geometry>
        <mesh filename="package://segbot_description/meshes/hokuyo.dae" scale="0.0254 0.0254 0.0254"/>
      </geometry>
    </visual>
    <!-- ignore the collision element -->
  </link>
  <!-- go from the base of the laser to the actual sensor location -->
  <joint name="nav_hokuyo_laser_joint" type="fixed">
    <origin xyz="0 0 0.058"/>
    <parent link="nav_hokuyo_link"/>
    <child link="nav_hokuyo_laser_link"/>
  </joint>
  <link name="nav_hokuyo_laser_link" type="laser">
    <inertial>
      <mass value="0.001"/>
      <origin rpy="0 0 0" xyz="0 0 0"/>
      <inertia ixx="0.0001" ixy="0" ixz="0" iyy="0.000001" iyz="0" izz="0.0001"/>
    </inertial>
  </link>
  <gazebo reference="nav_hokuyo_laser_link">
    <sensor name="nav_hokuyo_laser" type="ray">
      <always_on>true</always_on>
      <update_rate>10</update_rate>
      <pose>0 0 0 0 0 0</pose>
      <visualize>false</visualize>
      <ray>
        <scan>
          <horizontal>
            <samples>640</samples>
            <resolution>1</resolution>
            <min_angle>-1.308996939</min_angle>
            <max_angle>1.308996939</max_angle>
          </horizontal>
        </scan>
        <range>
          <min>0.02</min>
          <max>20.0</max>
          <resolution>0.03</resolution>
        </range>
      </ray>
      <plugin filename="libgazebo_ros_laser.so" name="gazebo_ros_nav_hokuyo_laser_controller">
        <gaussianNoise>0.0</gaussianNoise>
        <alwaysOn>true</alwaysOn>
        <updateRate>10</updateRate>
        <topicName>scan</topicName>
        <frameName>nav_hokuyo_laser_link</frameName>
      </plugin>
    </sensor>
  </gazebo>
  <joint name="left_sensor_plate_standoff_joint" type="fixed">
    <origin rpy="-1.5707963268 0 1.5707963268" xyz="-0.0127 0 0.0889"/>
    <parent link="hokuyo_sonar_sensor_beam_link"/>
    <child link="left_sensor_plate_standoff_link"/>
  </joint>
  <link name="left_sensor_plate_standoff_link">
    <inertial>
      <mass value="0.1"/>
      <origin rpy="0 0 0" xyz="0 0 0"/>
      <inertia ixx="0.01" ixy="0.0" ixz="0.0" iyy="0.01" iyz="0.0" izz="0.01"/>
    </inertial>
    <visual>
      <origin rpy="0 0 0" xyz="0 0 0.00635"/>
      <geometry>
        <cylinder length="0.0127" radius="0.00635"/>
      </geometry>
      <material name="light_grey"/>
    </visual>
  </link>
  <gazebo reference="left_sensor_plate_standoff_link">
    <material>Gazebo/Grey</material>
    <mu1 value="100.0"/>
    <mu2 value="100.0"/>
    <kp value="1000000.0"/>
    <kd value="1.0"/>
  </gazebo>
  <joint name="right_sensor_plate_standoff_joint" type="fixed">
    <origin rpy="-1.5707963268 0 1.5707963268" xyz="-0.0127 0 0.2159"/>
    <parent link="hokuyo_sonar_sensor_beam_link"/>
    <child link="right_sensor_plate_standoff_link"/>
  </joint>
  <link name="right_sensor_plate_standoff_link">
    <inertial>
      <mass value="0.1"/>
      <origin rpy="0 0 0" xyz="0 0 0"/>
      <inertia ixx="0.01" ixy="0.0" ixz="0.0" iyy="0.01" iyz="0.0" izz="0.01"/>
    </inertial>
    <visual>
      <origin rpy="0 0 0" xyz="0 0 0.00635"/>
      <geometry>
        <cylinder length="0.0127" radius="0.00635"/>
      </geometry>
      <material name="light_grey"/>
    </visual>
  </link>
  <gazebo reference="right_sensor_plate_standoff_link">
    <material>Gazebo/Grey</material>
    <mu1 value="100.0"/>
    <mu2 value="100.0"/>
    <kp value="1000000.0"/>
    <kd value="1.0"/>
  </gazebo>
  <joint name="sensor_plate_joint" type="fixed">
    <origin rpy="0 0 0" xyz="-0.00635 -0.0635 0.0127"/>
    <parent link="left_sensor_plate_standoff_link"/>
    <child link="sensor_plate_link"/>
  </joint>
  <link name="sensor_plate_link">
    <inertial>
      <mass value="0.1"/>
      <origin rpy="0 0 0" xyz="0 0 0"/>
      <inertia ixx="0.01" ixy="0.0" ixz="0.0" iyy="0.01" iyz="0.0" izz="0.01"/>
    </inertial>
    <visual>
      <origin rpy="0 0 0" xyz="0 0 0.0015"/>
      <geometry>
        <box size="0.1143 0.2286 0.003"/>
      </geometry>
      <material name="dark_grey"/>
    </visual>
  </link>
  <gazebo reference="sensor_plate_link">
    <material>Gazebo/Grey</material>
    <mu1 value="100.0"/>
    <mu2 value="100.0"/>
    <kp value="1000000.0"/>
    <kd value="1.0"/>
  </gazebo>
  <joint name="sonar_center_joint" type="fixed">
    <origin xyz="-0.217932 0 0.015"/>
    <parent link="sensor_plate_link"/>
    <child link="sonar_center_link"/>
  </joint>
  <!-- sonar_center_link is an empty link that marks the start -->
  <link name="sonar_center_link">
    <inertial>
      <mass value="0.1"/>
      <origin rpy="0 0 0" xyz="0 0 0"/>
      <inertia ixx="0.01" ixy="0.0" ixz="0.0" iyy="0.01" iyz="0.0" izz="0.01"/>
    </inertial>
    <visual>
      <origin rpy="0 0 0" xyz="0 0 0"/>
      <geometry>
        <box size="0.001 0.001 0.001"/>
      </geometry>
    </visual>
  </link>
  <!-- sonar0 - right -->
  <joint name="sonar0_rotated_center_joint" type="fixed">
    <origin rpy="0 0 -0.349065850399" xyz="0 0 0"/>
    <parent link="sonar_center_link"/>
    <child link="sonar0_rotated_center_link"/>
  </joint>
  <link name="sonar0_rotated_center_link">
    <inertial>
      <mass value="0.1"/>
      <origin rpy="0 0 0" xyz="0 0 0"/>
      <inertia ixx="0.01" ixy="0.0" ixz="0.0" iyy="0.01" iyz="0.0" izz="0.01"/>
    </inertial>
    <visual>
      <origin rpy="0 0 0" xyz="0 0 0"/>
      <geometry>
        <box size="0.001 0.001 0.001"/>
      </geometry>
    </visual>
  </link>
  <joint name="sonar0_joint" type="fixed">
    <origin xyz="0.262382 0 0"/>
    <parent link="sonar0_rotated_center_link"/>
    <child link="sonar0_link"/>
  </joint>
  <link name="sonar0_link">
    <inertial>
      <mass value="0.1"/>
      <origin rpy="0 0 0" xyz="0 0 0"/>
      <inertia ixx="0.01" ixy="0.0" ixz="0.0" iyy="0.01" iyz="0.0" izz="0.01"/>
    </inertial>
    <visual>
      <origin rpy="0 0 0" xyz="0 0 0"/>
      <geometry>
        <box size="0.012 0.044 0.023"/>
      </geometry>
    </visual>
  </link>
  <!-- sonar1 - center -->
  <joint name="sonar1_joint" type="fixed">
    <origin xyz="0.262382 0 0"/>
    <parent link="sonar_center_link"/>
    <child link="sonar1_link"/>
  </joint>
  <link name="sonar1_link">
    <inertial>
      <mass value="0.1"/>
      <origin rpy="0 0 0" xyz="0 0 0"/>
      <inertia ixx="0.01" ixy="0.0" ixz="0.0" iyy="0.01" iyz="0.0" izz="0.01"/>
    </inertial>
    <visual>
      <origin rpy="0 0 0" xyz="0 0 0"/>
      <geometry>
        <box size="0.012 0.044 0.023"/>
      </geometry>
    </visual>
  </link>
  <!-- sonar2 - left -->
  <joint name="sonar2_rotated_center_joint" type="fixed">
    <origin rpy="0 0 0.349065850399" xyz="0 0 0"/>
    <parent link="sonar_center_link"/>
    <child link="sonar2_rotated_center_link"/>
  </joint>
  <link name="sonar2_rotated_center_link">
    <inertial>
      <mass value="0.1"/>
      <origin rpy="0 0 0" xyz="0 0 0"/>
      <inertia ixx="0.01" ixy="0.0" ixz="0.0" iyy="0.01" iyz="0.0" izz="0.01"/>
    </inertial>
    <visual>
      <origin rpy="0 0 0" xyz="0 0 0"/>
      <geometry>
        <box size="0.001 0.001 0.001"/>
      </geometry>
    </visual>
  </link>
  <joint name="sonar2_joint" type="fixed">
    <origin xyz="0.262382 0 0"/>
    <parent link="sonar2_rotated_center_link"/>
    <child link="sonar2_link"/>
  </joint>
  <link name="sonar2_link">
    <inertial>
      <mass value="0.1"/>
      <origin rpy="0 0 0" xyz="0 0 0"/>
      <inertia ixx="0.01" ixy="0.0" ixz="0.0" iyy="0.01" iyz="0.0" izz="0.01"/>
    </inertial>
    <visual>
      <origin rpy="0 0 0" xyz="0 0 0"/>
      <geometry>
        <box size="0.012 0.044 0.023"/>
      </geometry>
    </visual>
  </link>
  <joint name="front_cap_beam_joint" type="fixed">
    <origin rpy="-1.5707963268 0 0" xyz="0 -0.0127 0.9271"/>
    <parent link="front_right_vertical_beam_link"/>
    <child link="front_cap_beam_link"/>
  </joint>
  <link name="front_cap_beam_link">
    <inertial>
      <mass value="0.1"/>
      <inertia ixx="0.01" ixy="0.0" ixz="0.0" iyy="0.01" iyz="0.0" izz="0.01"/>
    </inertial>
    <visual>
      <origin rpy="0 0 0" xyz="0 0 0.1524"/>
      <geometry>
        <box size="0.0254 0.0254 0.3048"/>
      </geometry>
      <material name="light_grey"/>
    </visual>
  </link>
  <gazebo reference="front_cap_beam_link">
    <material>Gazebo/Grey</material>
    <mu1 value="100.0"/>
    <mu2 value="100.0"/>
    <kp value="1000000.0"/>
    <kd value="1.0"/>
  </gazebo>
  <gazebo>
    <plugin filename="libgazebo_ros_planar_move.so" name="object_controller">
      <commandTopic>cmd_vel</commandTopic>
      <odometryTopic>odom</odometryTopic>
      <odometryFrame>odom</odometryFrame>
      <robotBaseFrame>base_footprint</robotBaseFrame>
      <odometryRate>100</odometryRate>
    </plugin>
  </gazebo>
</robot>
